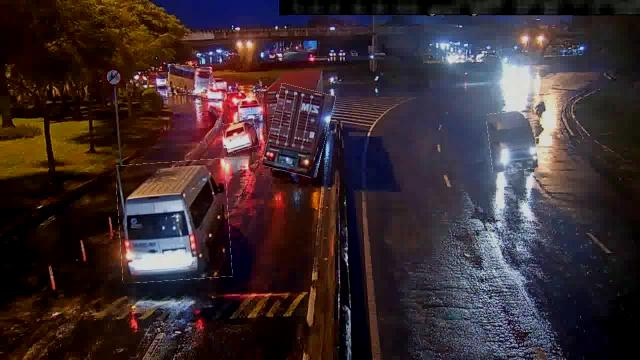Bike: (535, 99, 549, 125)
Bus: (117, 160, 230, 282), (488, 110, 536, 172), (167, 65, 209, 95)
Car: (224, 120, 258, 152), (238, 100, 262, 124), (202, 84, 226, 100)
Truck: (267, 86, 331, 176)
